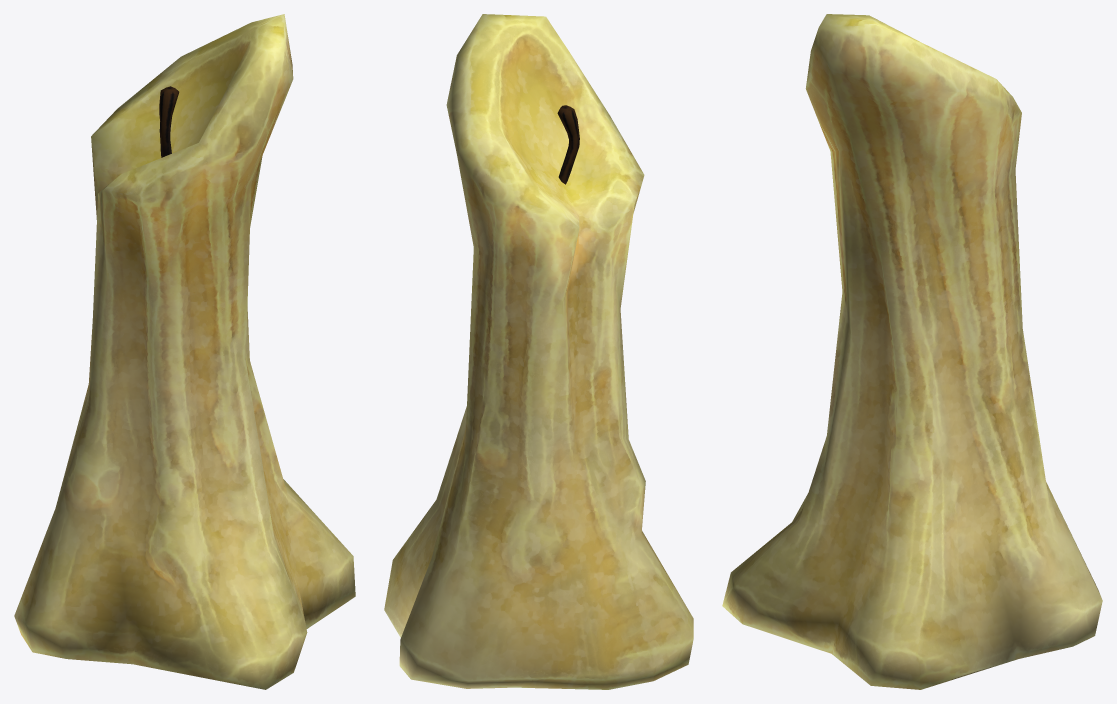
The model's file is SM_Candle_long.fbx.
The picture shows the model from 3 angles, left to right: view 1: azimuth 30°, elevation 25°; view 2: azimuth 150°, elevation 25°; view 3: azimuth 270°, elevation 25°; orthographic projection. The views are drawn at different scales.
Visible parts, largest first — view 1: SM_Candle_long_LOD0; view 2: SM_Candle_long_LOD0; view 3: SM_Candle_long_LOD0.
Part boxes in pixels (left/top/right/bottom): SM_Candle_long_LOD0: left=14, top=14, right=355, bottom=689; SM_Candle_long_LOD0: left=384, top=14, right=693, bottom=689; SM_Candle_long_LOD0: left=722, top=14, right=1102, bottom=689.
Bounding box in the file's own units: 10.67 × 10.88 × 19.85.
